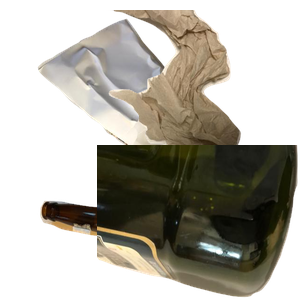glass: (37, 198, 236, 300)
paper: (35, 10, 237, 178)
plastic: (97, 145, 300, 300)
trash: (103, 10, 300, 173)
